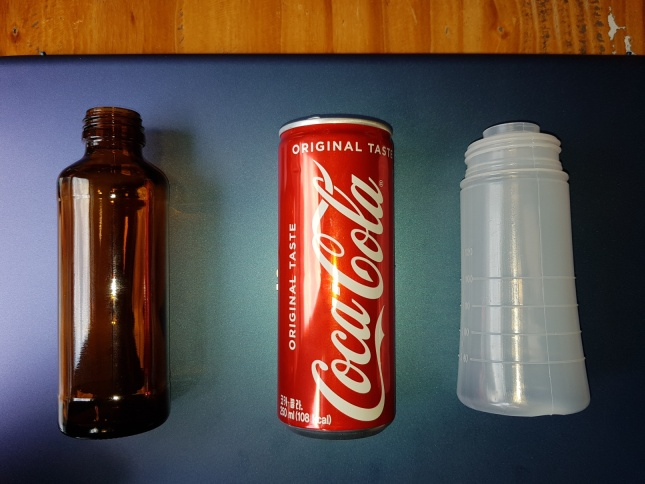Can: (271, 111, 399, 442)
Glass: (49, 103, 171, 442)
Plastic: (449, 117, 595, 423)
